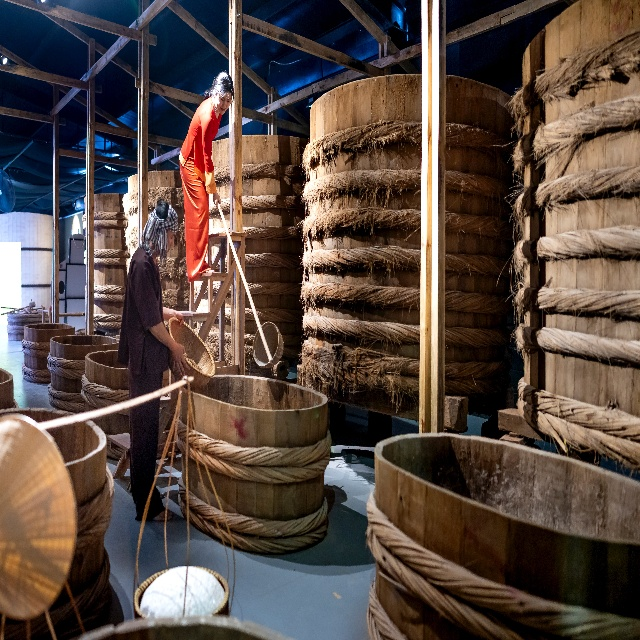Sin_guantes: (172, 342, 190, 376), (173, 311, 184, 326), (213, 192, 221, 209)
